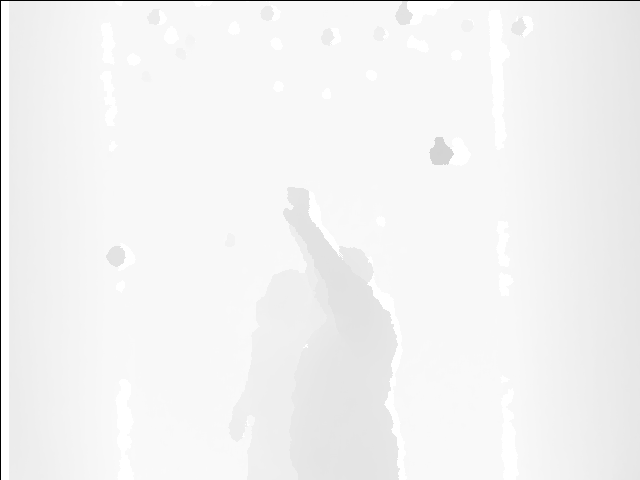hand: (286, 187, 315, 230)
